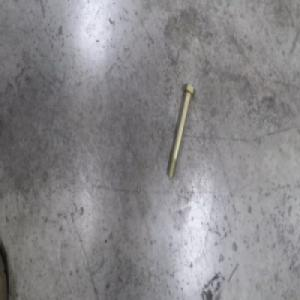Bolt: (165, 82, 195, 181)
